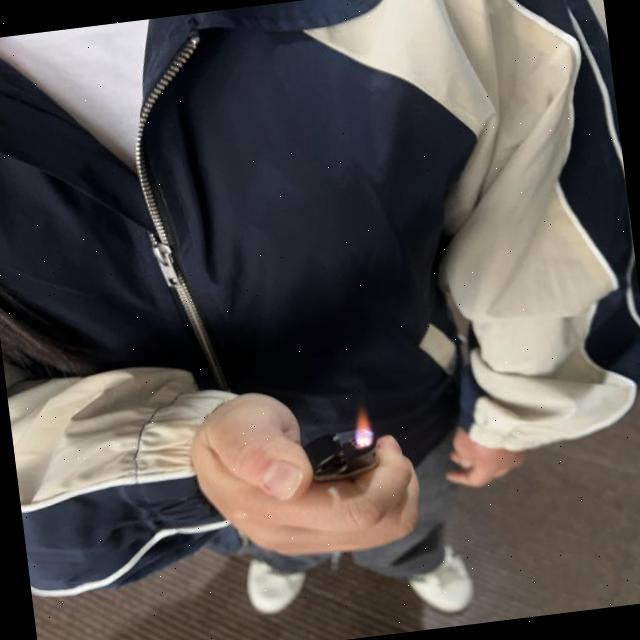fire: (352, 407, 372, 439)
